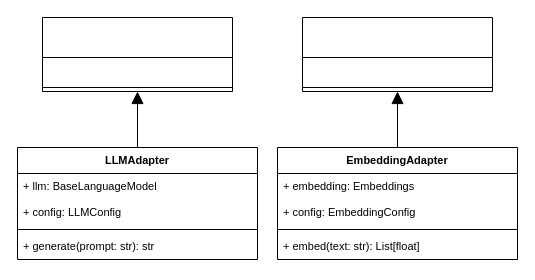
Image size: 535x280. Some labels were removed from this diagram. Here are the shapes that lost their labels. From the top down, the centre of each, then its label:
At point (137, 54): "<< External - LangChain >> BaseLanguageModel".
At point (397, 54): "<< External - LangChain >> Embeddings".
